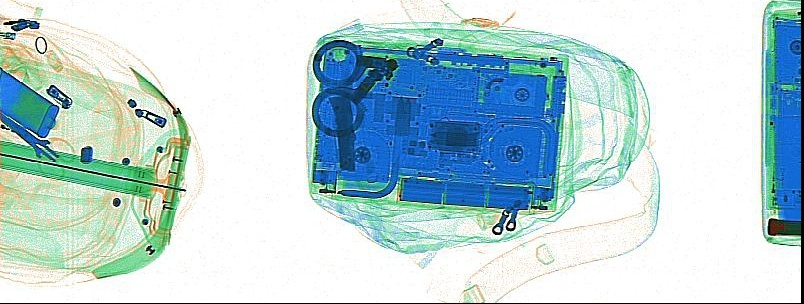handcuffs: (310, 37, 397, 135)
knife: (327, 93, 356, 172)
scissors: (1, 111, 76, 179)
zippooil: (1, 66, 59, 138)
